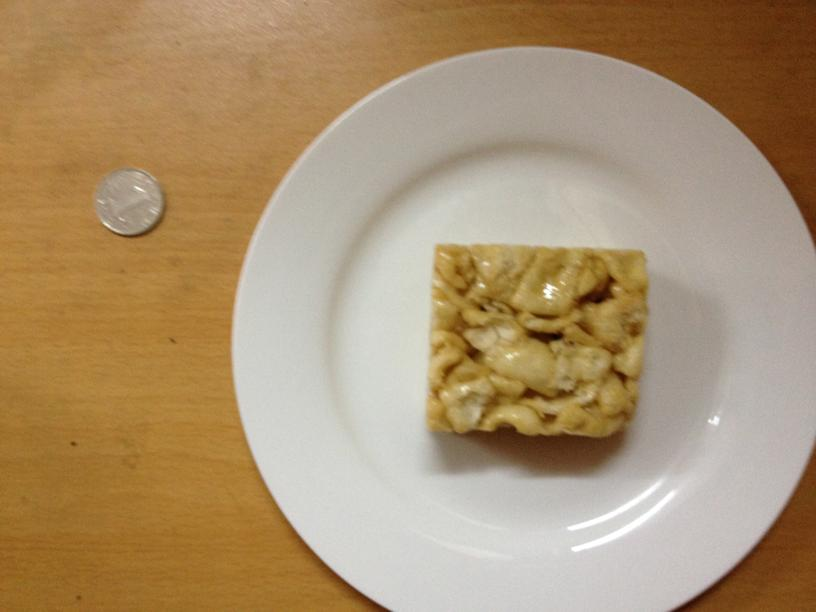coin: (91, 169, 164, 236)
sachima: (421, 240, 650, 442)
